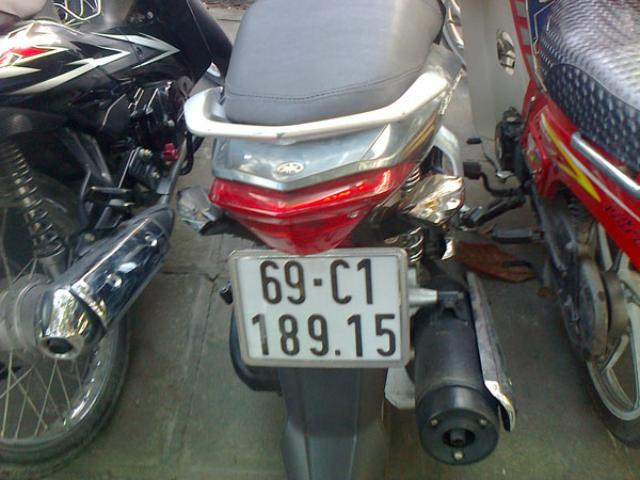plate: (231, 250, 411, 364)
